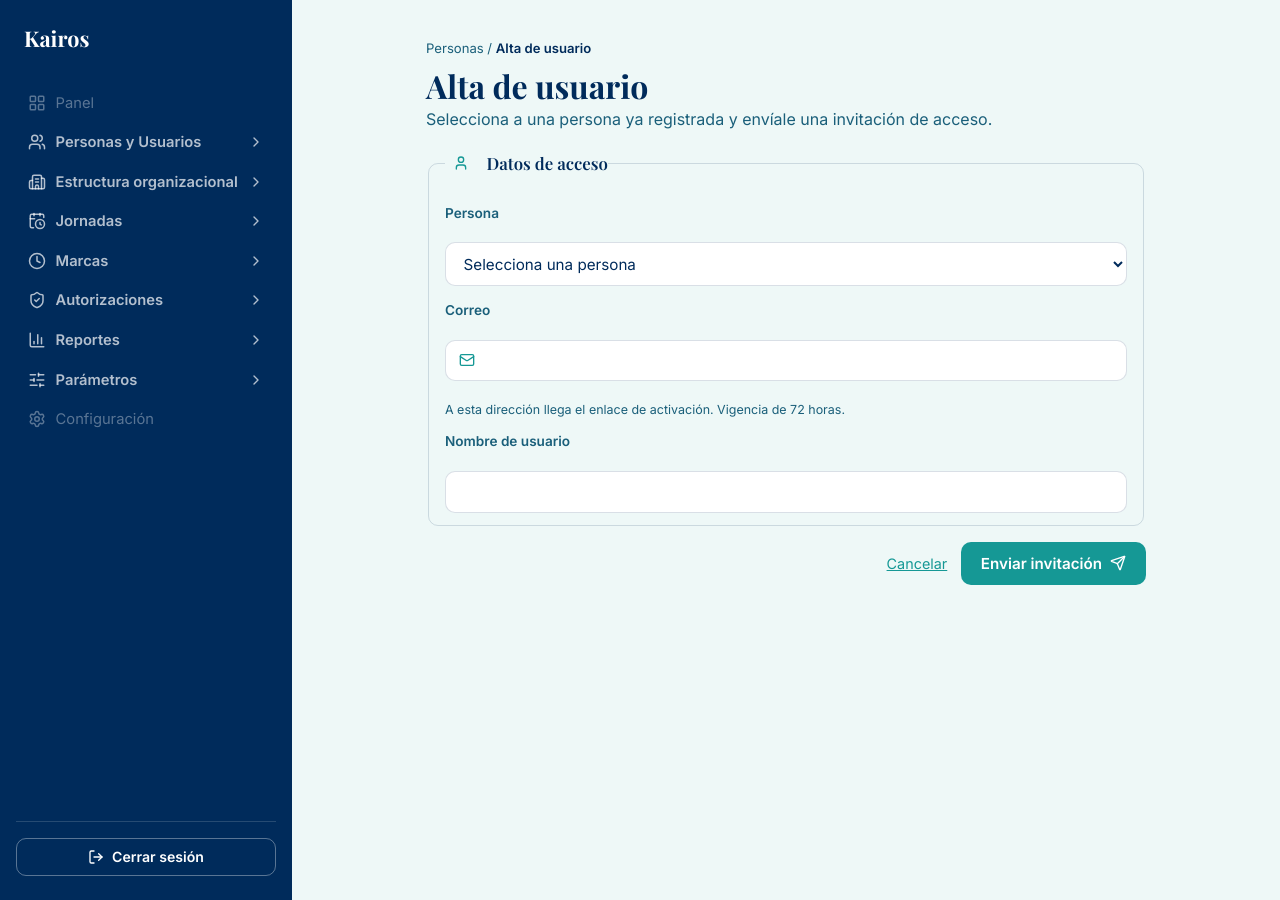
AltaUsuarioPage › carga las personas y envía la invitación
Step 1. Select "Mariana Alcántara" in the dropdown labelled "Persona" → (786, 264), box top-left (445, 242), bottom-right (1127, 286)
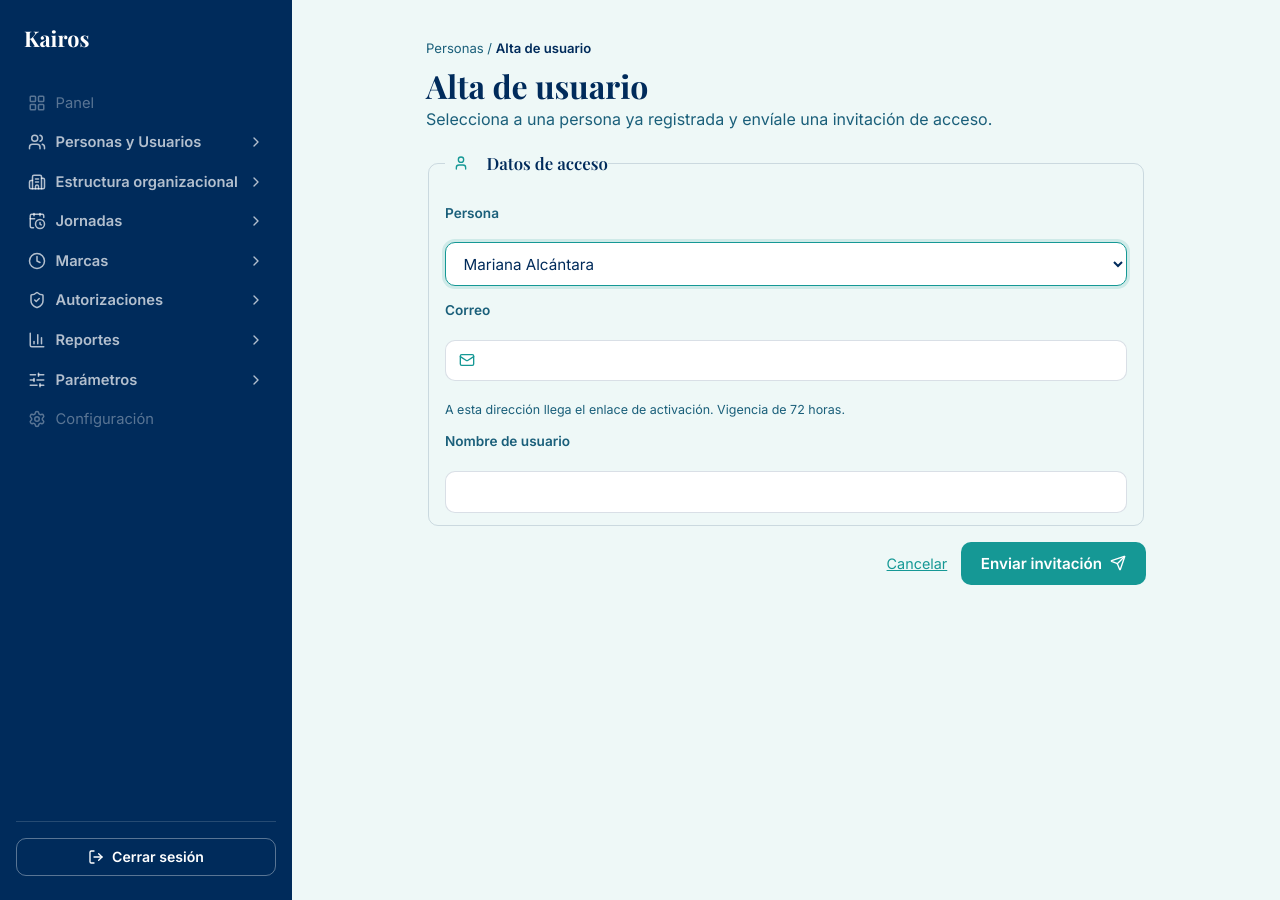
Step 2. Type "mariana@example.com" into the field labelled "Correo" → (786, 360), box top-left (445, 340), bottom-right (1127, 381)
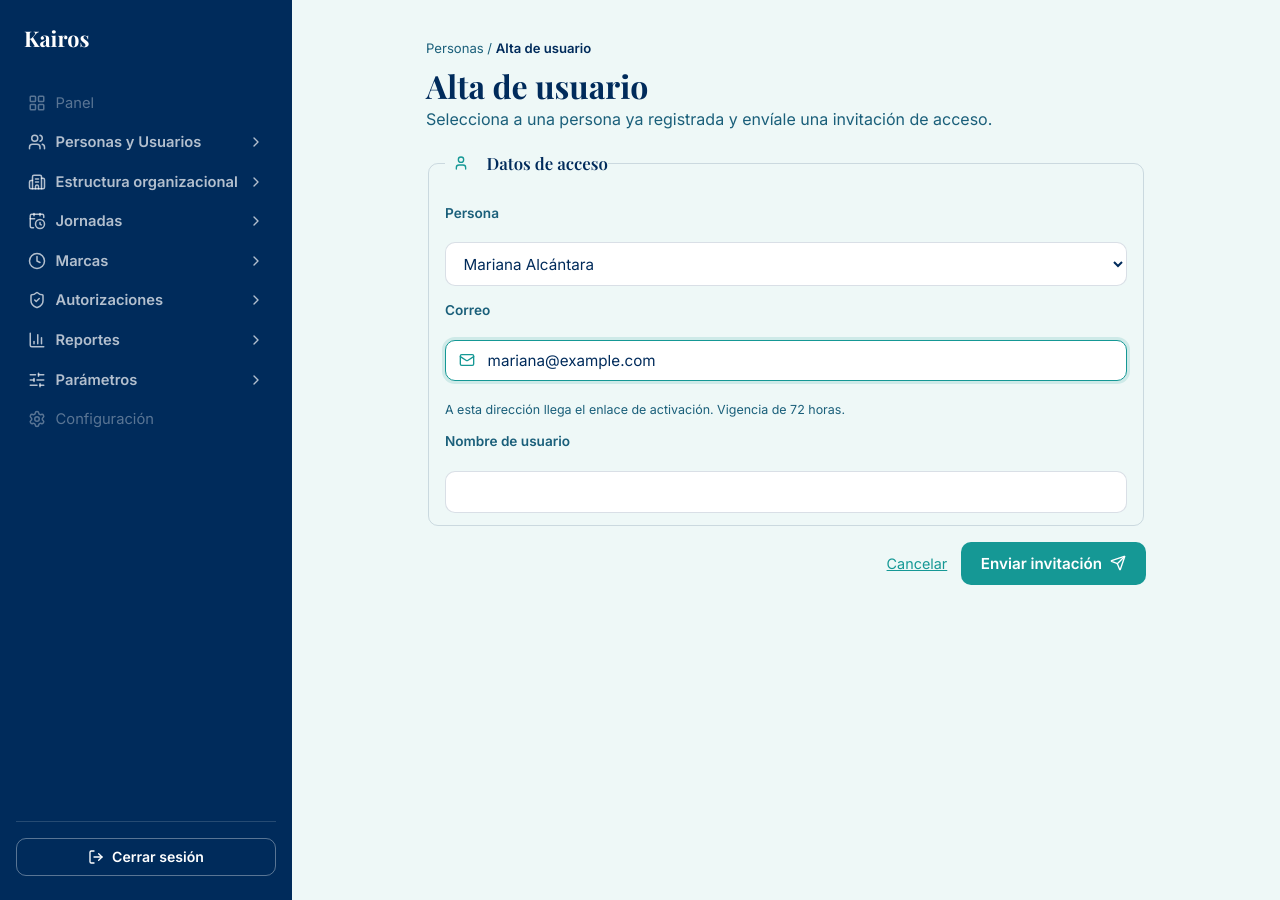
Step 3. Type "mariana.alcantara" into the field labelled "Nombre de usuario" → (786, 492), box top-left (445, 471), bottom-right (1127, 512)
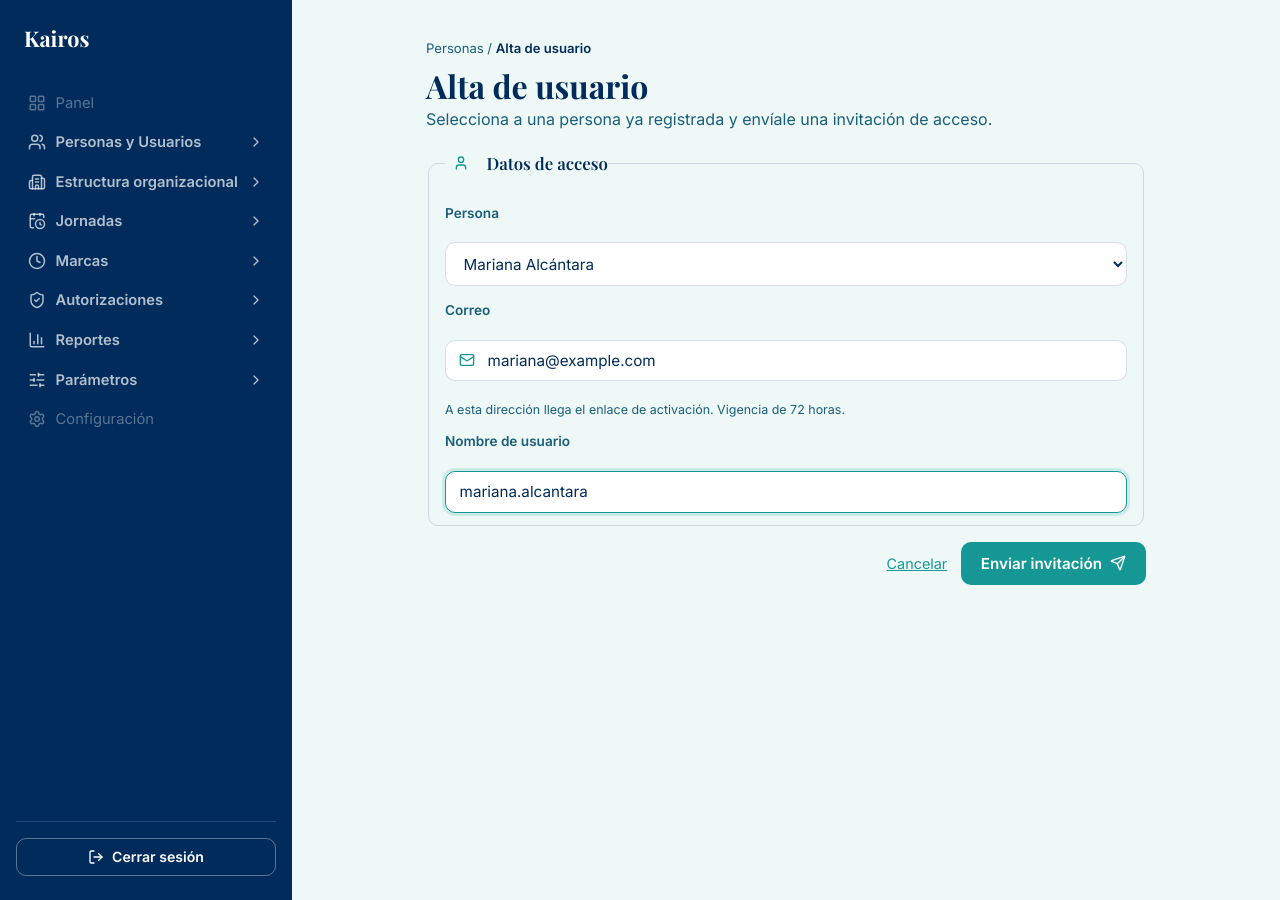
Step 4. Click the button "Enviar invitación" → (1053, 563), box top-left (961, 542), bottom-right (1146, 584)
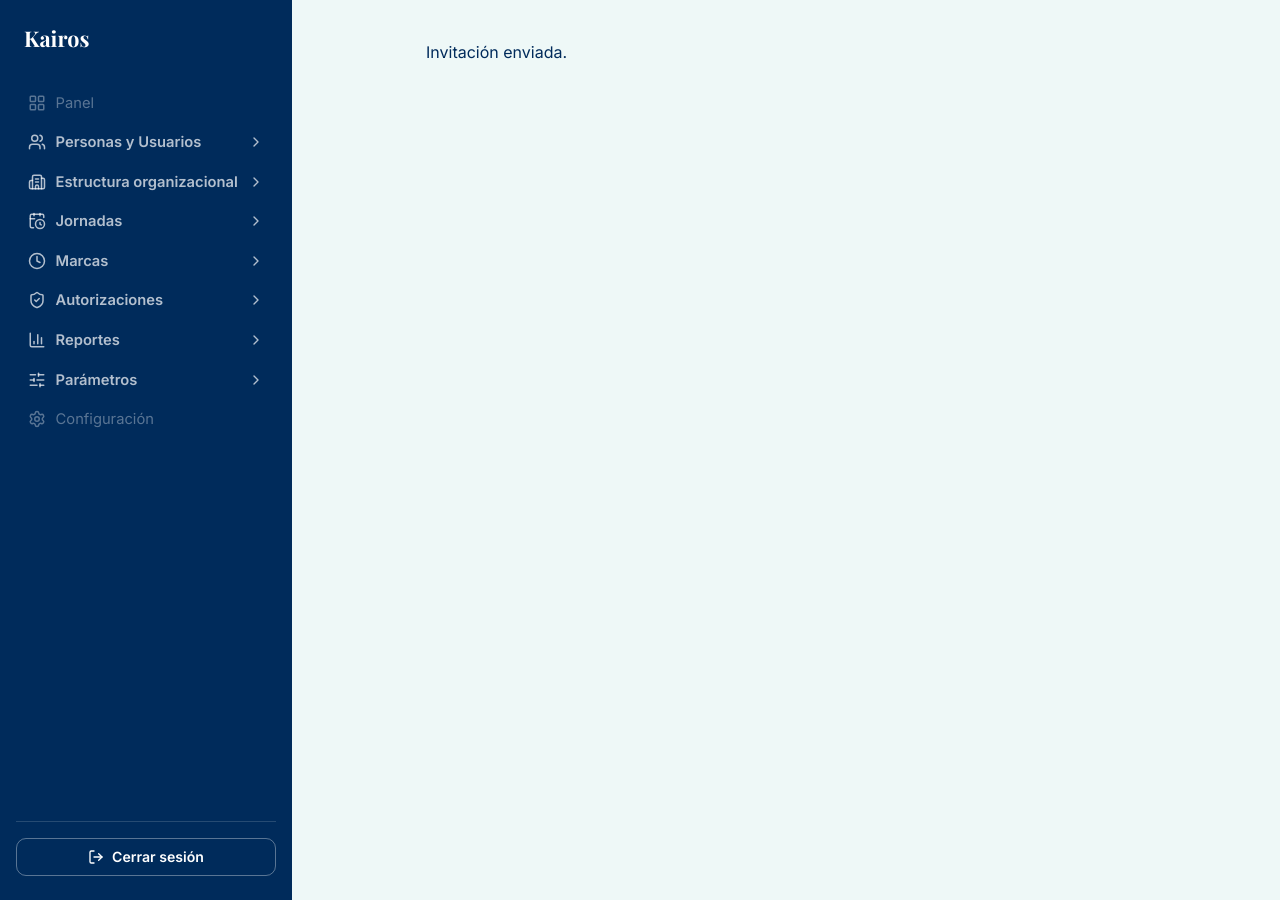
Expected: the text "Invitación enviada." is shown, top-left (426, 42), bottom-right (567, 62)
